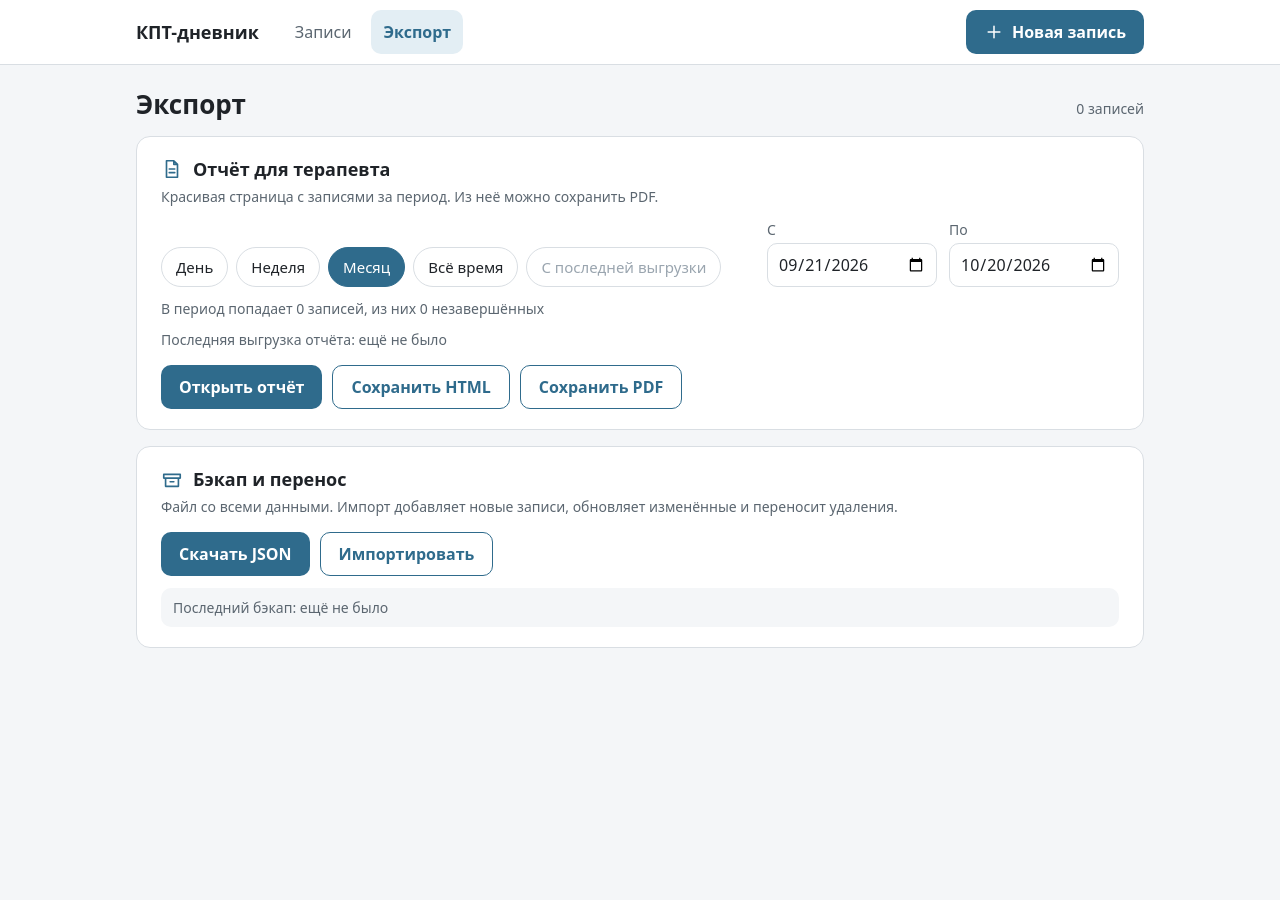
Test: save pdf writes the report and prints it
The width and height of the screenshot is (1280, 900).
Click the button "Сохранить PDF" at (601, 387), box x1=520 y1=365 x2=682 y2=409
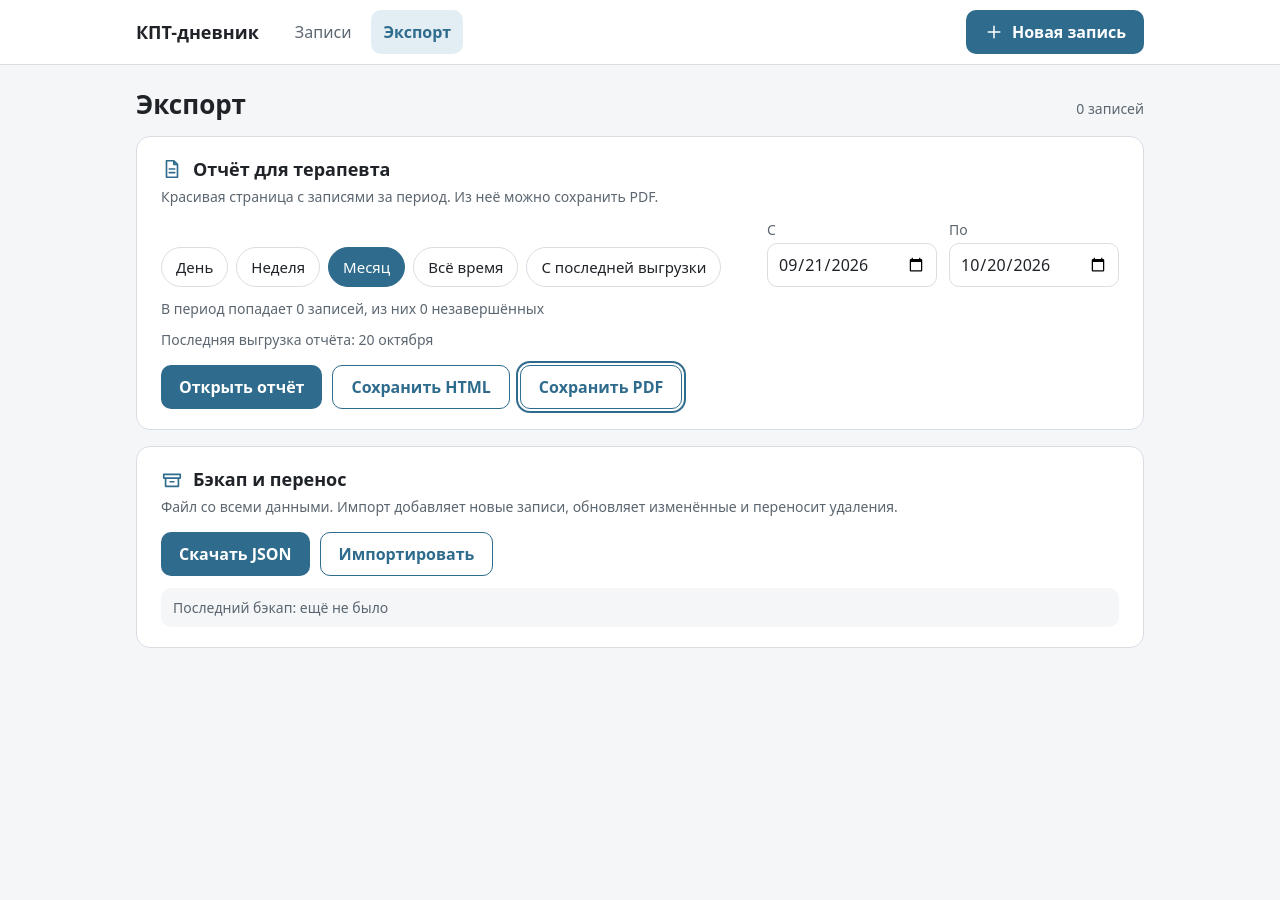
expect the text "Последняя выгрузка отчёта: 20 октября" is shown: met, box x1=161 y1=330 x2=433 y2=349
